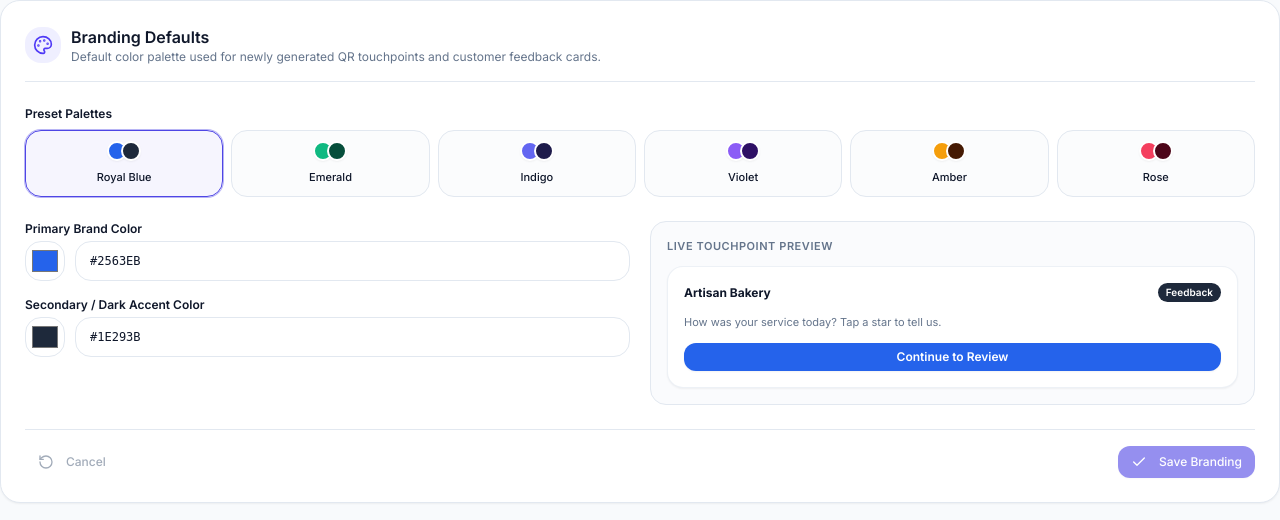
Test: BrandingSettingsForm Component › applies preset palette when palette preset button is clicked
Click the button "Emerald" at (330, 163), box [231, 130, 430, 196]
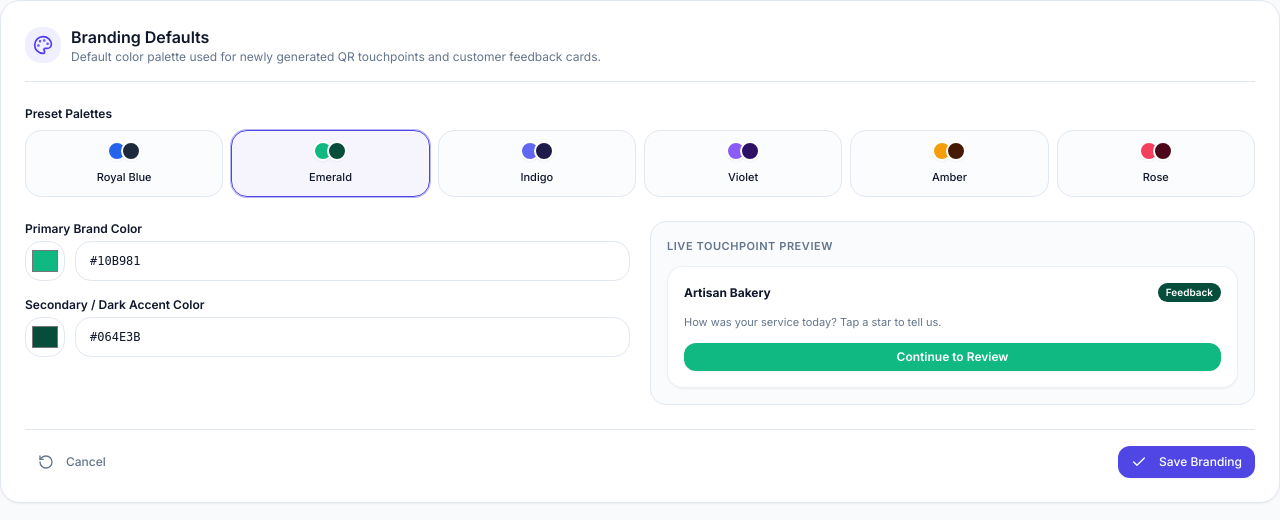
Expected: the field showing "#10B981" below "Primary Brand Color" is shown, [75, 240, 630, 280]
Expected: the field showing "#064E3B" below "Secondary / Dark Accent Color" is shown, [75, 316, 630, 356]
